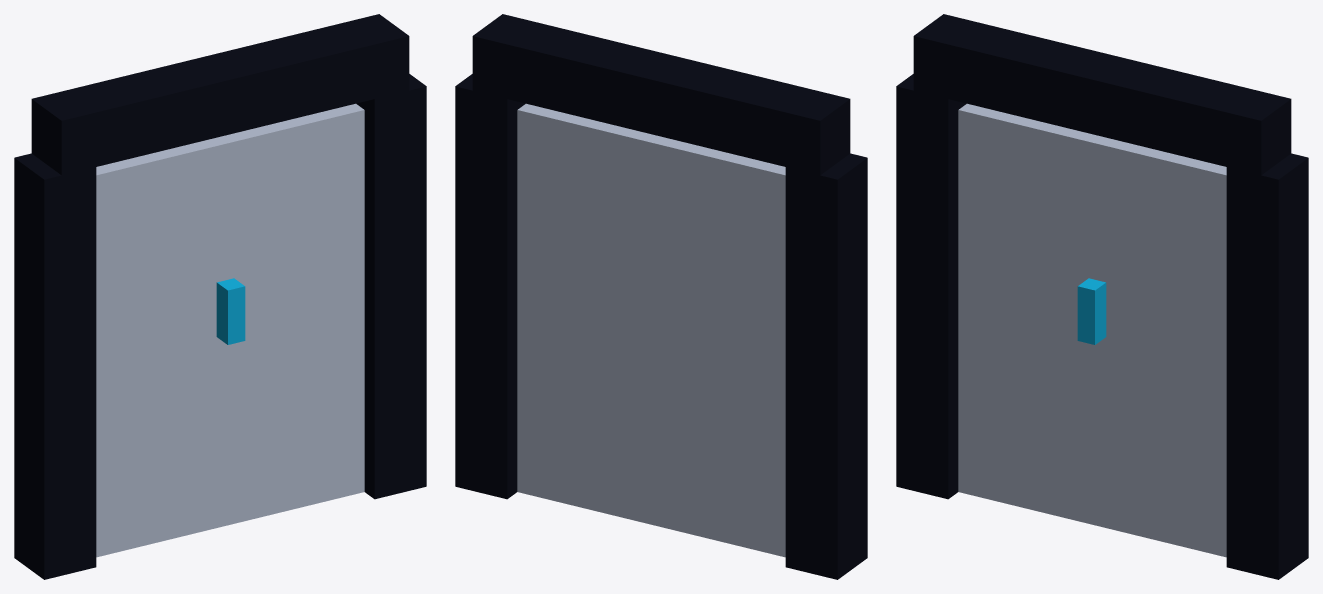
The model's file is sliding_door.obj.
3 views of the same model, side by side, from view 1: azimuth 30°, elevation 25°; view 2: azimuth 150°, elevation 25°; view 3: azimuth 330°, elevation 25° (orthographic).
Visible parts, largest first — view 1: sliding_door; view 2: sliding_door; view 3: sliding_door.
Part boxes in pixels (left/top/right/bottom): sliding_door: left=14, top=14, right=426, bottom=579; sliding_door: left=455, top=14, right=867, bottom=579; sliding_door: left=896, top=14, right=1308, bottom=579.
Bounding box in the file's own units: 2.2 × 2.5 × 0.31.
